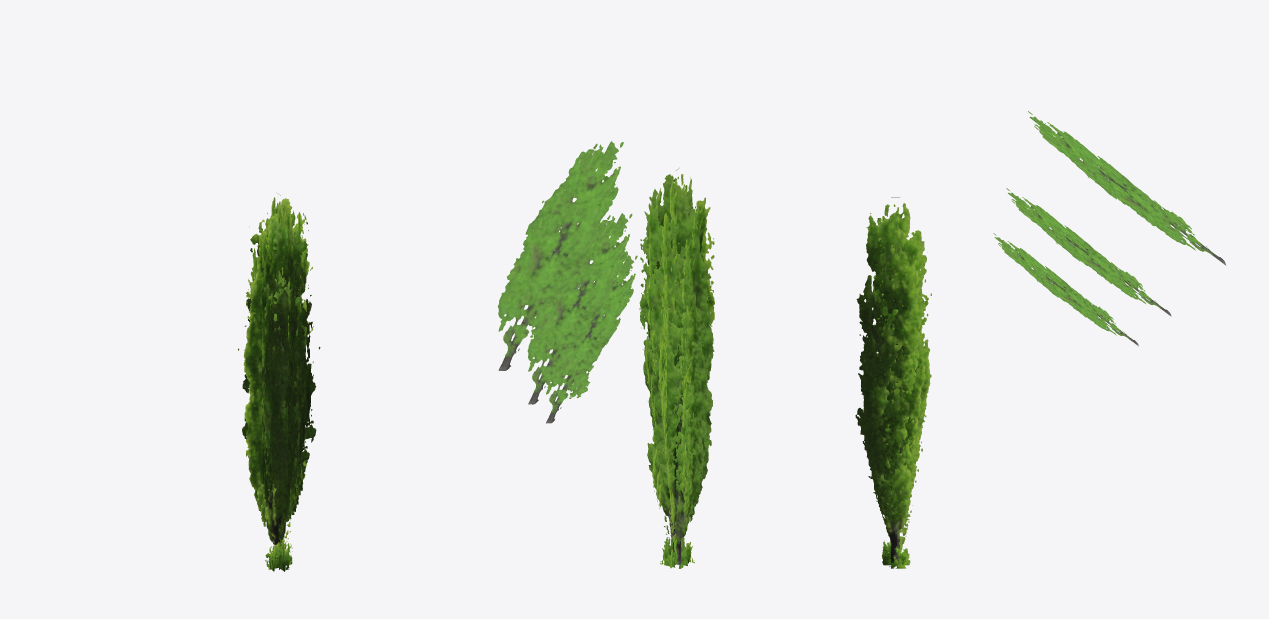
The model's file is tree-impo2B.glb.
3 renders of one model, left to right at view 1: azimuth 30°, elevation 25°; view 2: azimuth 150°, elevation 25°; view 3: azimuth 270°, elevation 25°, orthographic. The views are drawn at different scales.
Visible parts, largest first — view 1: size3.002, size3.008, size3.012, size3.003, size2.018, size3.011, size1.027, size2.015, size2.021, size2.022; view 2: size3.shadow, size2.shadow.001, size3.007, size3.001, size1.shadow.002, size1.025, size3.012, size2.017, size3.003, size2.005, size1.027, size3.011 (+3 smaller); view 3: size3.013, size3.004, size3.shadow, size2.shadow.001, size2.023, size1.shadow.002, size1.035, size2.016.
Boxes of the visible parts, x1,y1,x2,y2 form: size3.002: (243, 198, 313, 544); size3.008: (263, 220, 320, 507); size3.012: (248, 232, 278, 506); size3.003: (264, 195, 299, 531); size2.018: (265, 279, 309, 518); size3.011: (291, 210, 313, 498); size1.027: (274, 315, 293, 545); size2.015: (278, 267, 295, 545); size2.021: (291, 274, 307, 512); size2.022: (261, 293, 277, 517); size3.shadow: (497, 141, 623, 370); size2.shadow.001: (527, 213, 632, 404); size3.007: (639, 203, 696, 468); size3.001: (639, 174, 714, 563); size1.shadow.002: (546, 255, 637, 423); size1.025: (655, 279, 703, 564); size3.012: (680, 201, 710, 502); size2.017: (646, 268, 692, 485); size3.003: (658, 169, 693, 533); size2.005: (652, 251, 707, 564); size1.027: (663, 292, 680, 542); size3.011: (645, 175, 674, 491); size3.013: (858, 222, 925, 512); size3.004: (855, 197, 931, 563); size3.shadow: (1028, 111, 1226, 265); size2.shadow.001: (1006, 188, 1171, 316); size2.023: (866, 280, 921, 522); size1.shadow.002: (993, 233, 1138, 346); size1.035: (870, 314, 918, 526); size2.016: (862, 273, 925, 546).
Size of the model in its own units: 11.56 by 34.3 by 27.49.
Materials: 1 (1 with a texture image).
